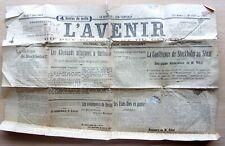paper: (0, 5, 219, 140)
